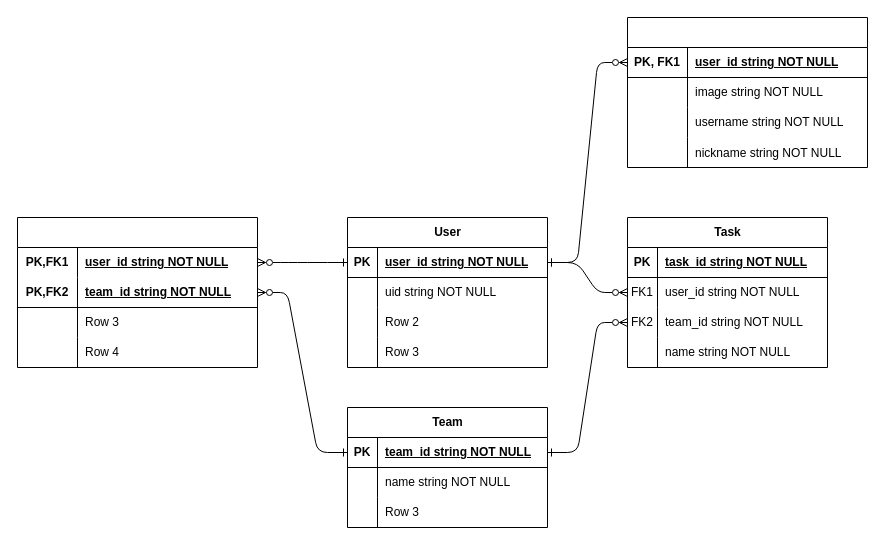
The diagram is 885 pixels wide and 545 high, and some of its shapes have lost their labels. Here are the shapes that lost their labels. From the top down, the box of each, then its label:
(626, 16, 868, 168): User_profile
(16, 216, 258, 368): Affiliation
